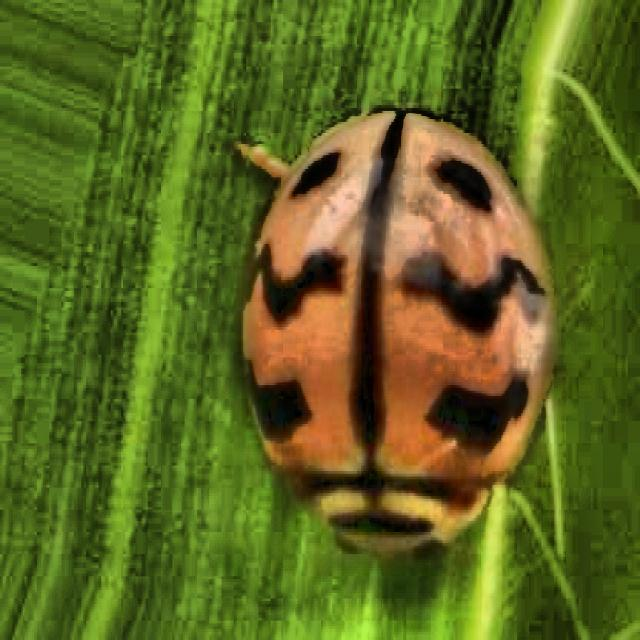Asian-Lady-beetle: (224, 50, 552, 567)
